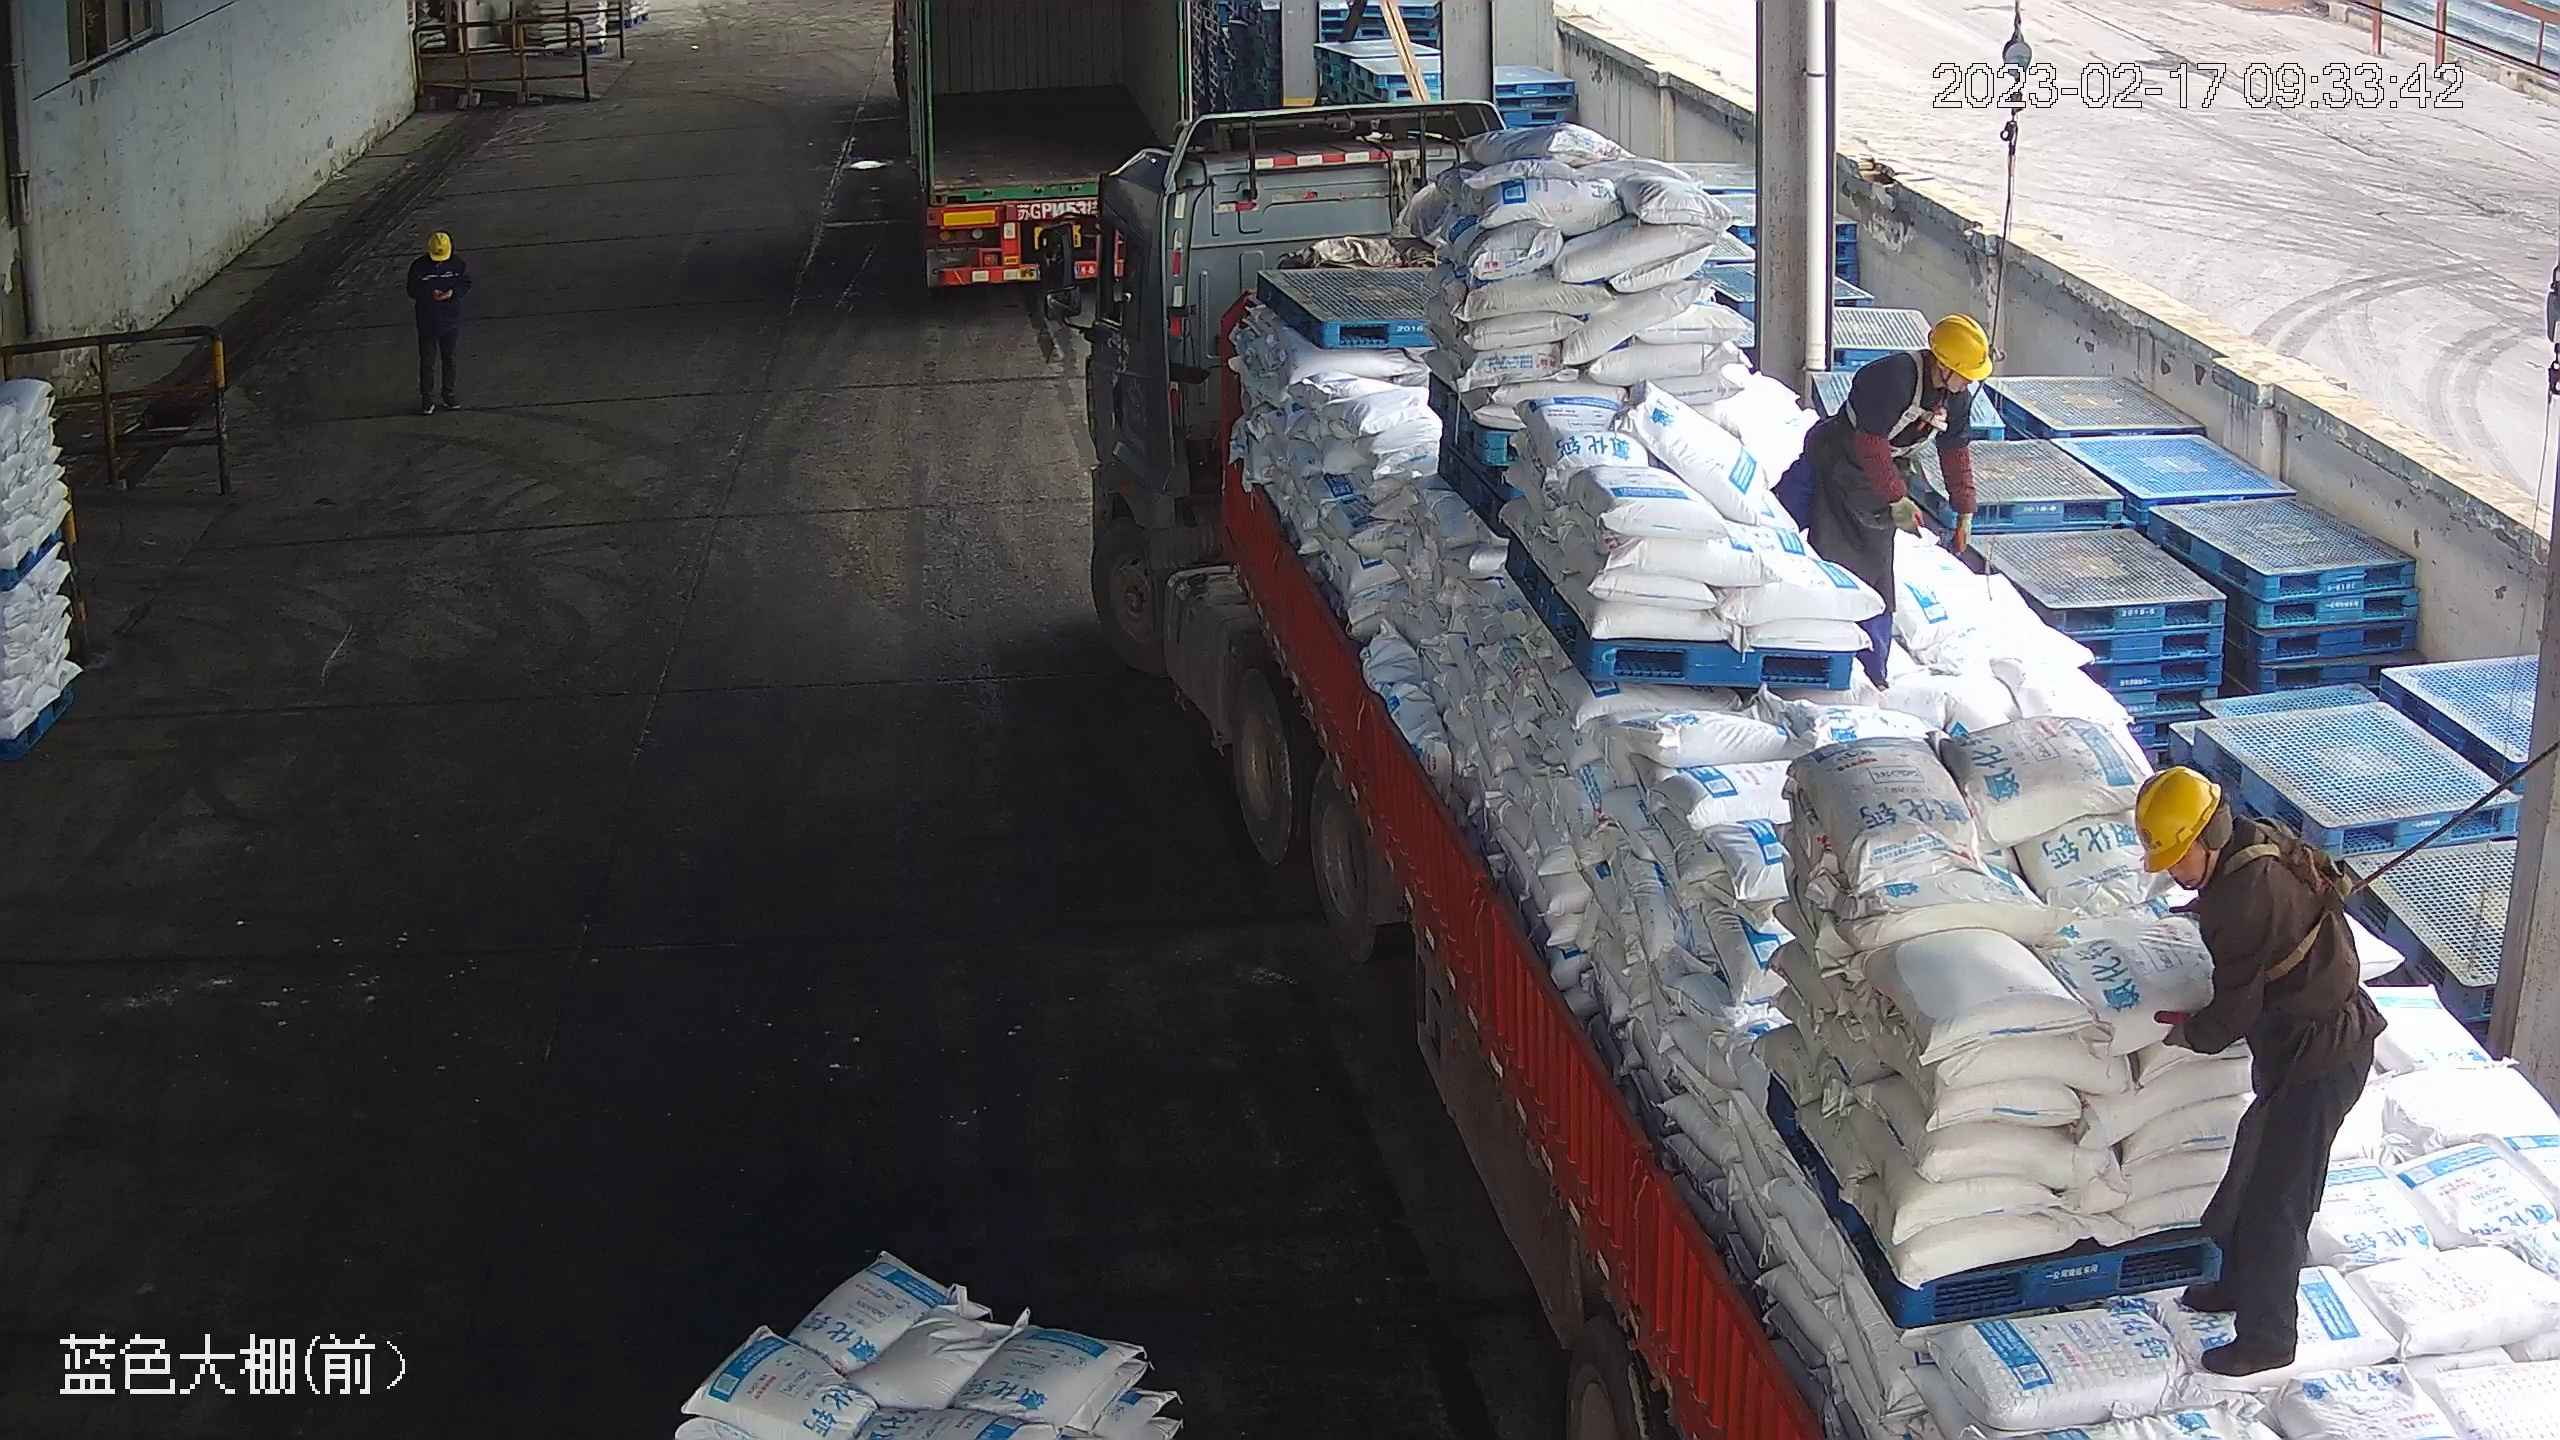belt: (2214, 822, 2363, 984), (1848, 349, 1960, 442)
head: (2132, 761, 2325, 939), (1854, 310, 1992, 426), (408, 230, 467, 280)
helmet: (2133, 763, 2223, 871), (1926, 311, 1992, 380), (421, 229, 452, 255)
people: (2127, 764, 2391, 1384), (1770, 309, 1997, 686), (406, 229, 475, 412)
truck: (1048, 124, 2549, 1438), (887, 1, 1194, 293)
